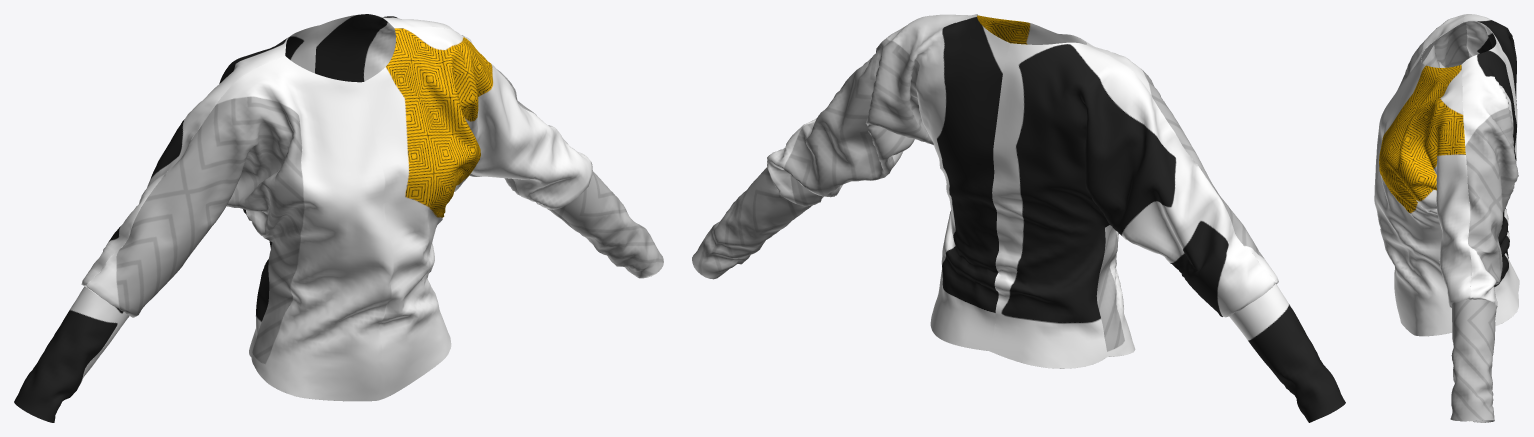
Rendered from Quad.fbx.
3 views of the same model, side by side, from view 1: azimuth 30°, elevation 25°; view 2: azimuth 150°, elevation 25°; view 3: azimuth 270°, elevation 25° (orthographic). The views are drawn at different scales.
Parts seen in each view (by area): view 1: Quad; view 2: Quad; view 3: Quad.
Boxes of the visible parts, box(x1,y1,x2,y2) form: Quad: box(14, 14, 663, 422); Quad: box(692, 14, 1345, 422); Quad: box(1374, 14, 1519, 422).
Size of the model in its own units: 107 by 54.32 by 25.31.
